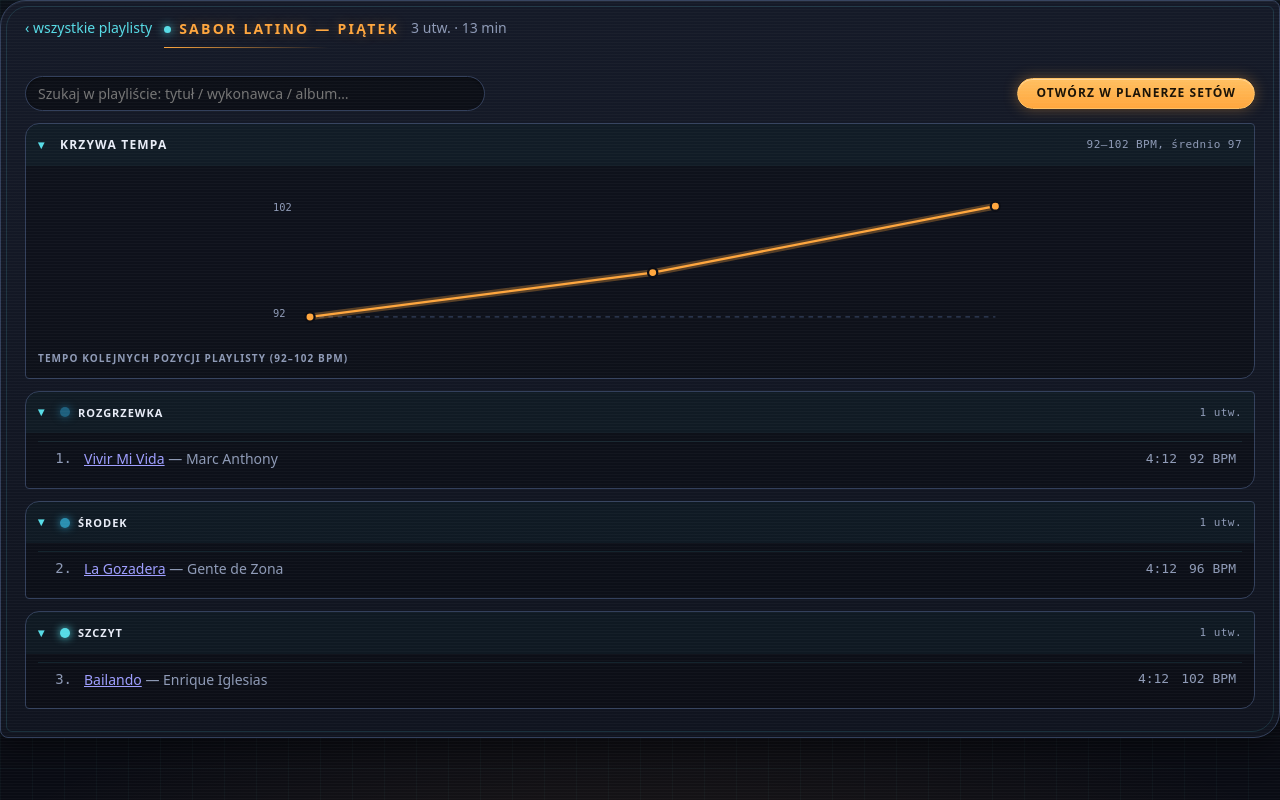
Test: PlaylistsView › szukanie w środku zawęża sekcje i podaje liczbę trafień
Expected: the element with test id "section-PEAK" is shown, [25,611,1255,709]
Type "gozadera" into the search field with test id "track-search" at (255, 93), box [25,76,485,111]
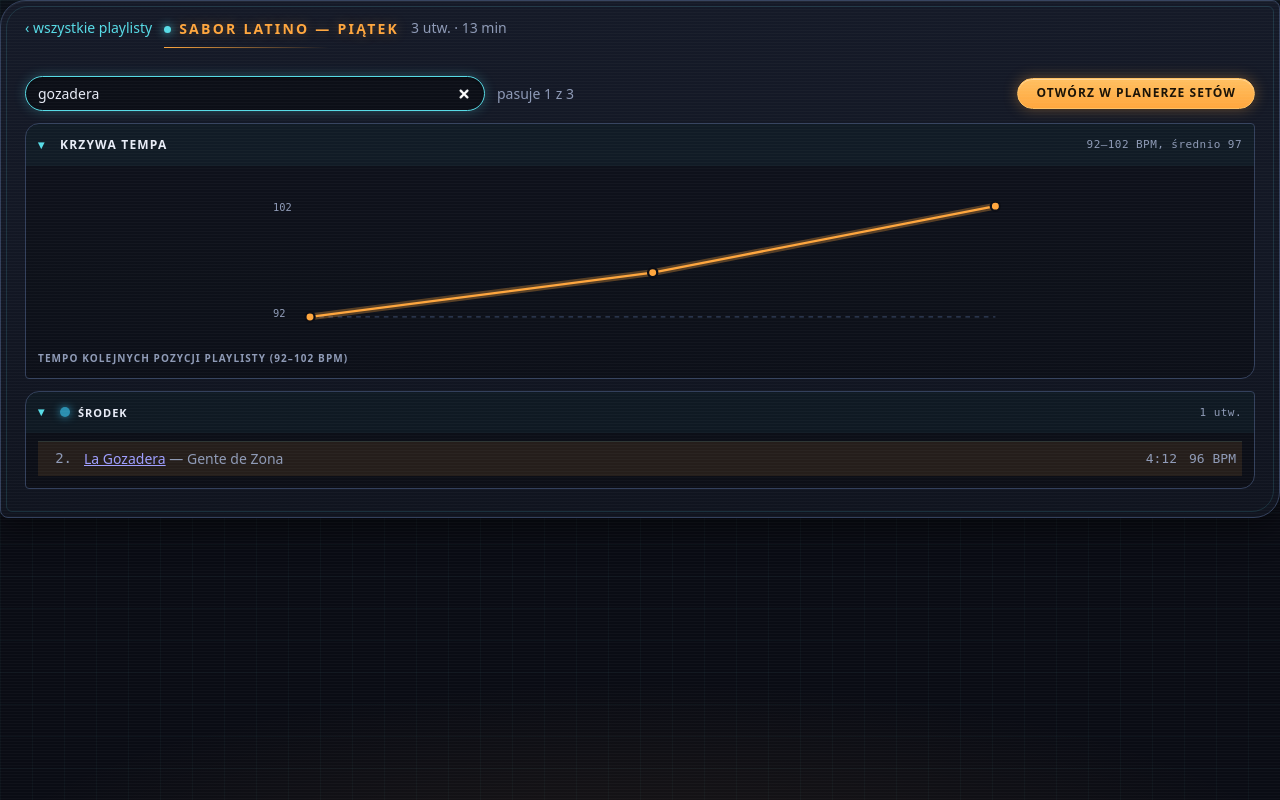
Expected: the element with test id "section-MIDDLE" is shown, [25,391,1255,489]
Expected: the element with test id "section-PEAK" is gone
Expected: the text with test id "track-search-summary" reads "pasuje 1 z 3", [497,83,574,104]
